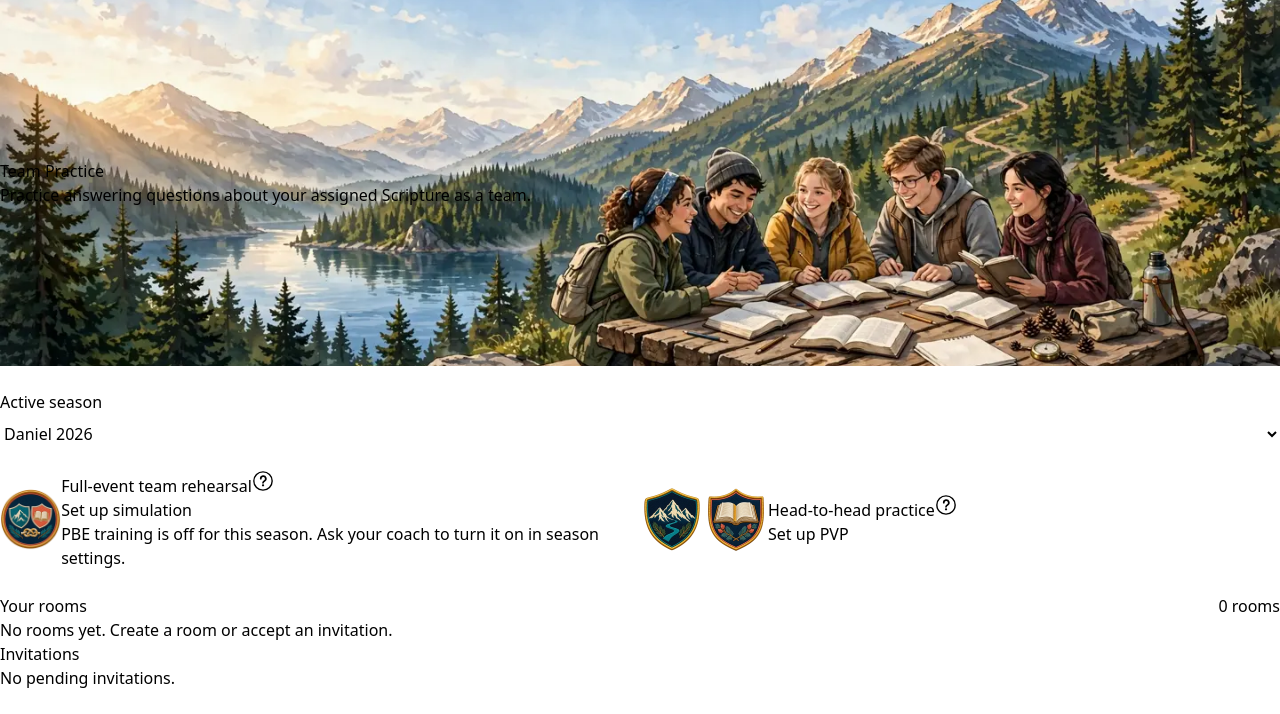
Scenario: keeps setup behind explicit mode actions and puts rooms in the hub
expect the form "Create room" is not shown: met
expect the heading "Your rooms" is shown: met, box [0,594,87,618]
Step 1. Click the button "Set up PVP" → click(808, 534), box [768,522,849,546]
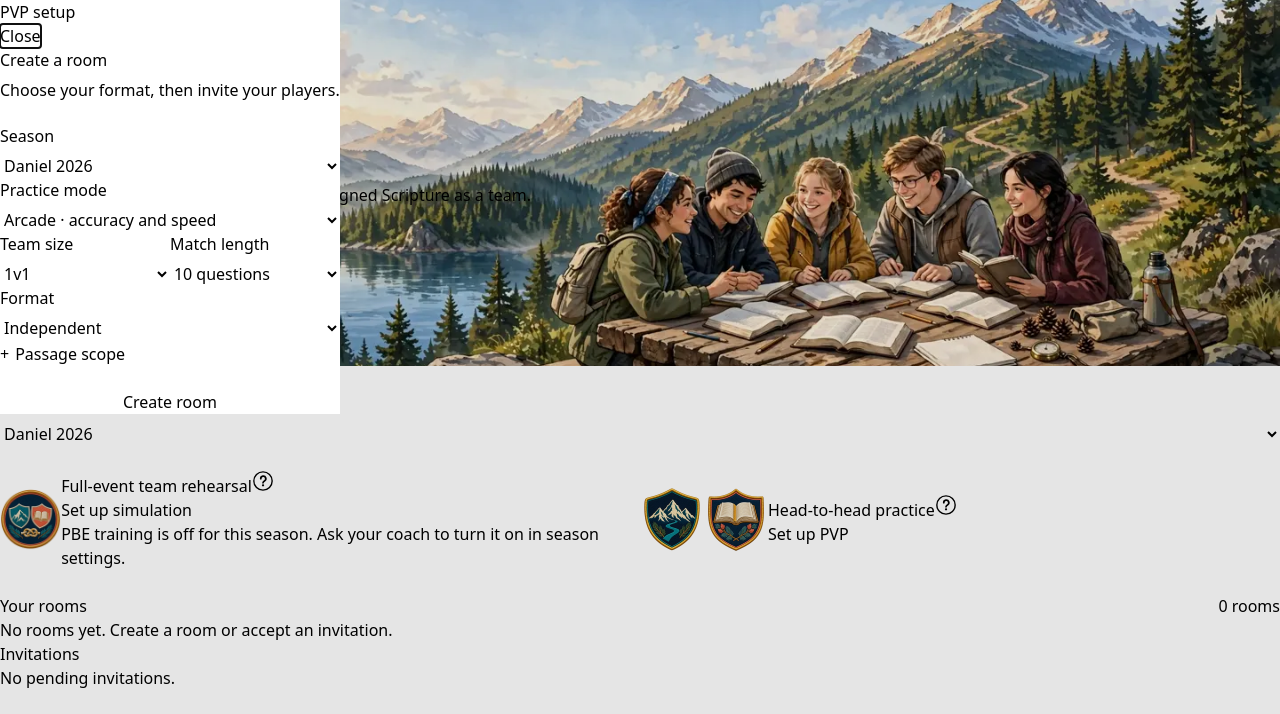
expect the dialog "PVP setup" is shown: met, box [0,0,340,414]
